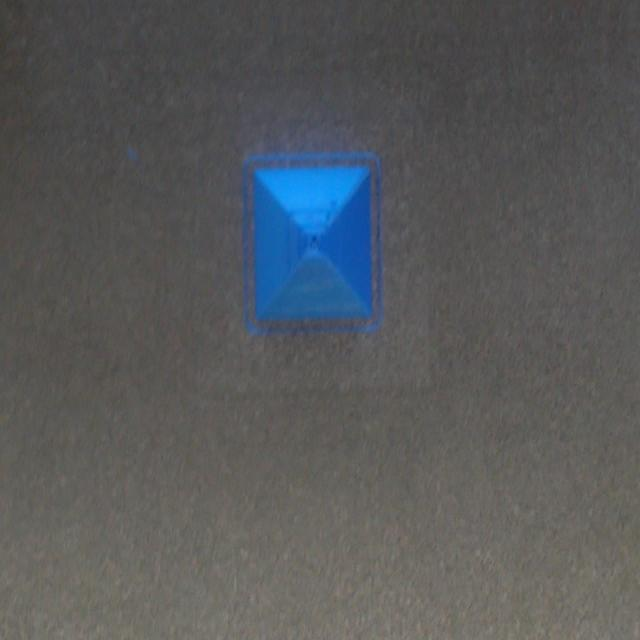mistake: (306, 203, 334, 245)
